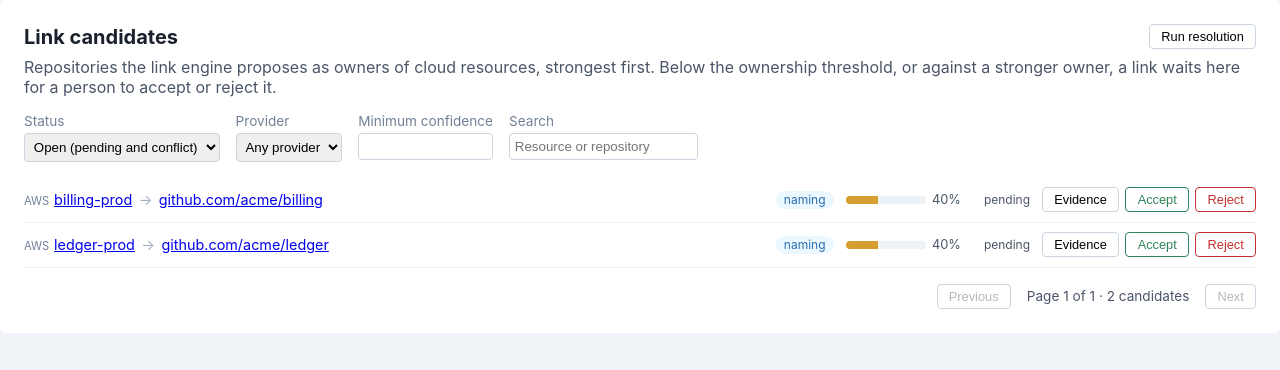
Test: CandidateLinksView › says why a decision was refused
The image size is (1280, 370).
Click the button with test id "accept" in the row of "github.com/acme/billing".
click(1157, 200)  # box x1=1126 y1=187 x2=1189 y2=212
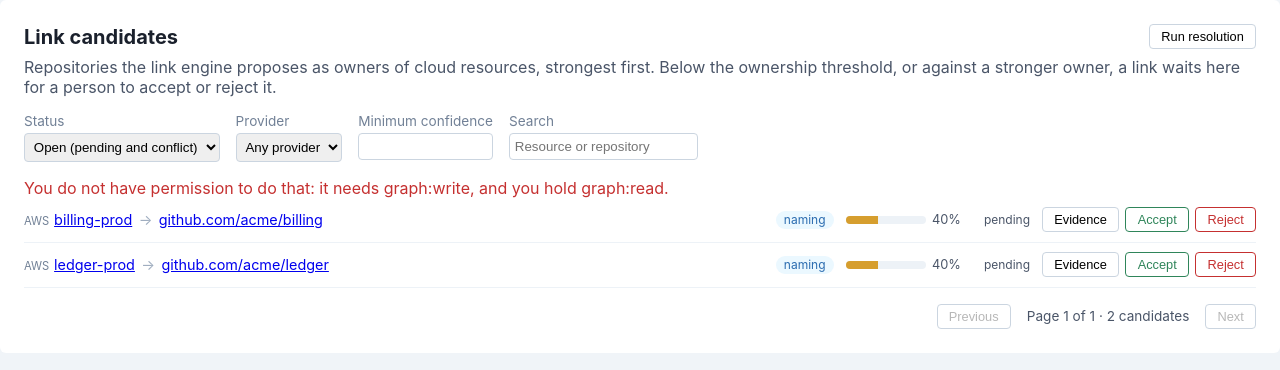
Expected: the message shows "graph:write", x1=24 y1=178 x2=669 y2=198
